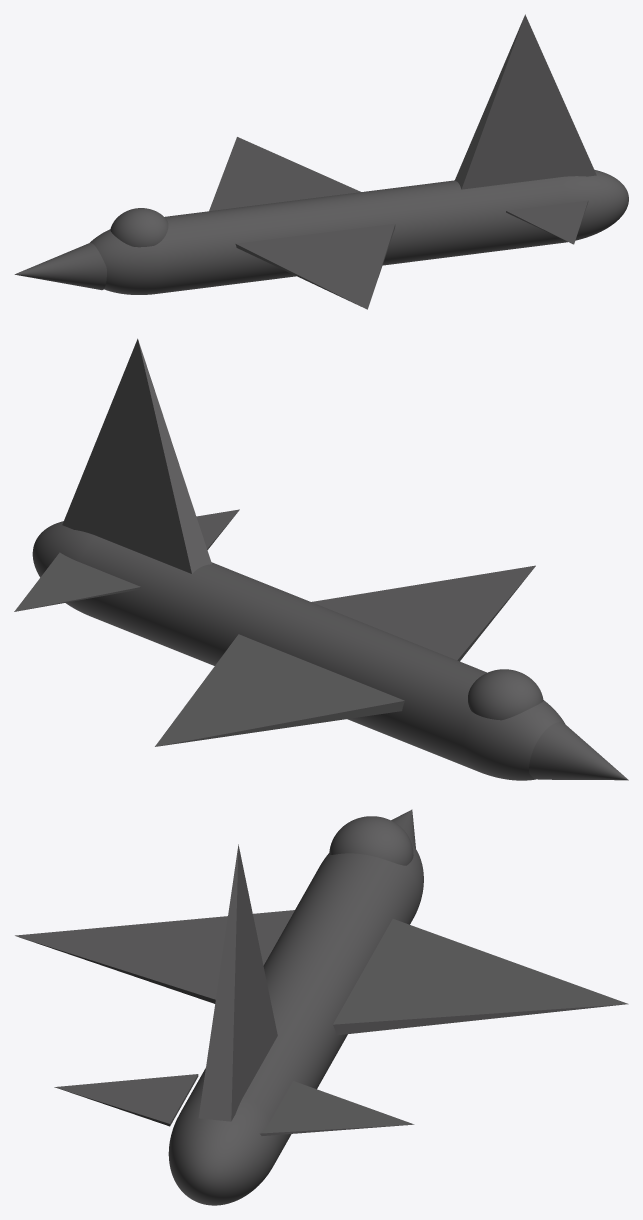
3 views of the same model, one above another, from view 1: azimuth 30°, elevation 25°; view 2: azimuth 150°, elevation 25°; view 3: azimuth 270°, elevation 25° (orthographic). The views are drawn at different scales.
Visible parts, largest first — view 1: root (×5), node_id47, node_id48; view 2: root (×6), node_id47, node_id48; view 3: root (×6), node_id48.
Boxes of the visible parts, x1,y1,x2,y2 form: root (×5): (90, 14, 628, 309); node_id47: (14, 242, 106, 290); node_id48: (110, 208, 168, 247); root (×6): (14, 338, 564, 780); node_id47: (529, 722, 628, 780); node_id48: (468, 669, 543, 720); root (×6): (15, 843, 628, 1205); node_id48: (329, 816, 413, 865).
Size of the model in its own units: 0.4475 by 0.1813 by 0.3103.
Materials: 8 (8 with a texture image).
